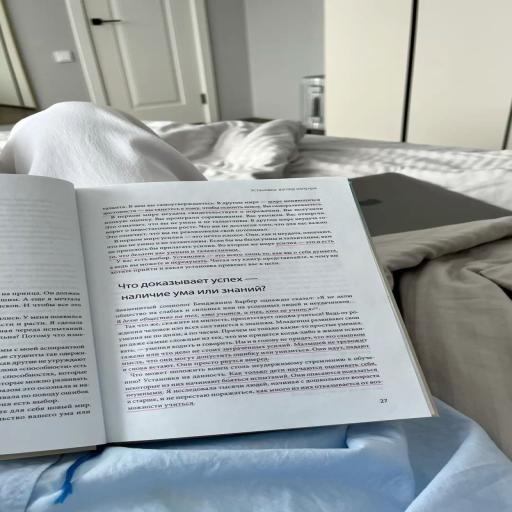bed: (0, 175, 435, 457)
corridor: (85, 0, 207, 122)
glass_wall: (352, 173, 511, 236)
